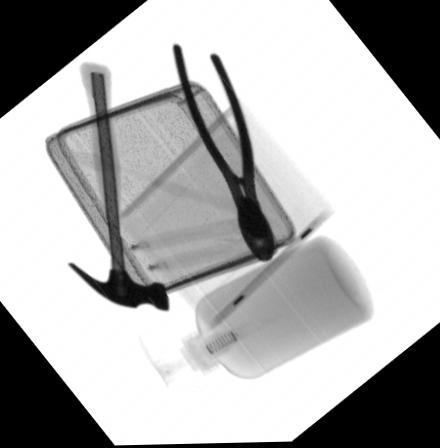Hammer: (65, 60, 168, 310)
Pliers: (170, 41, 274, 267)
